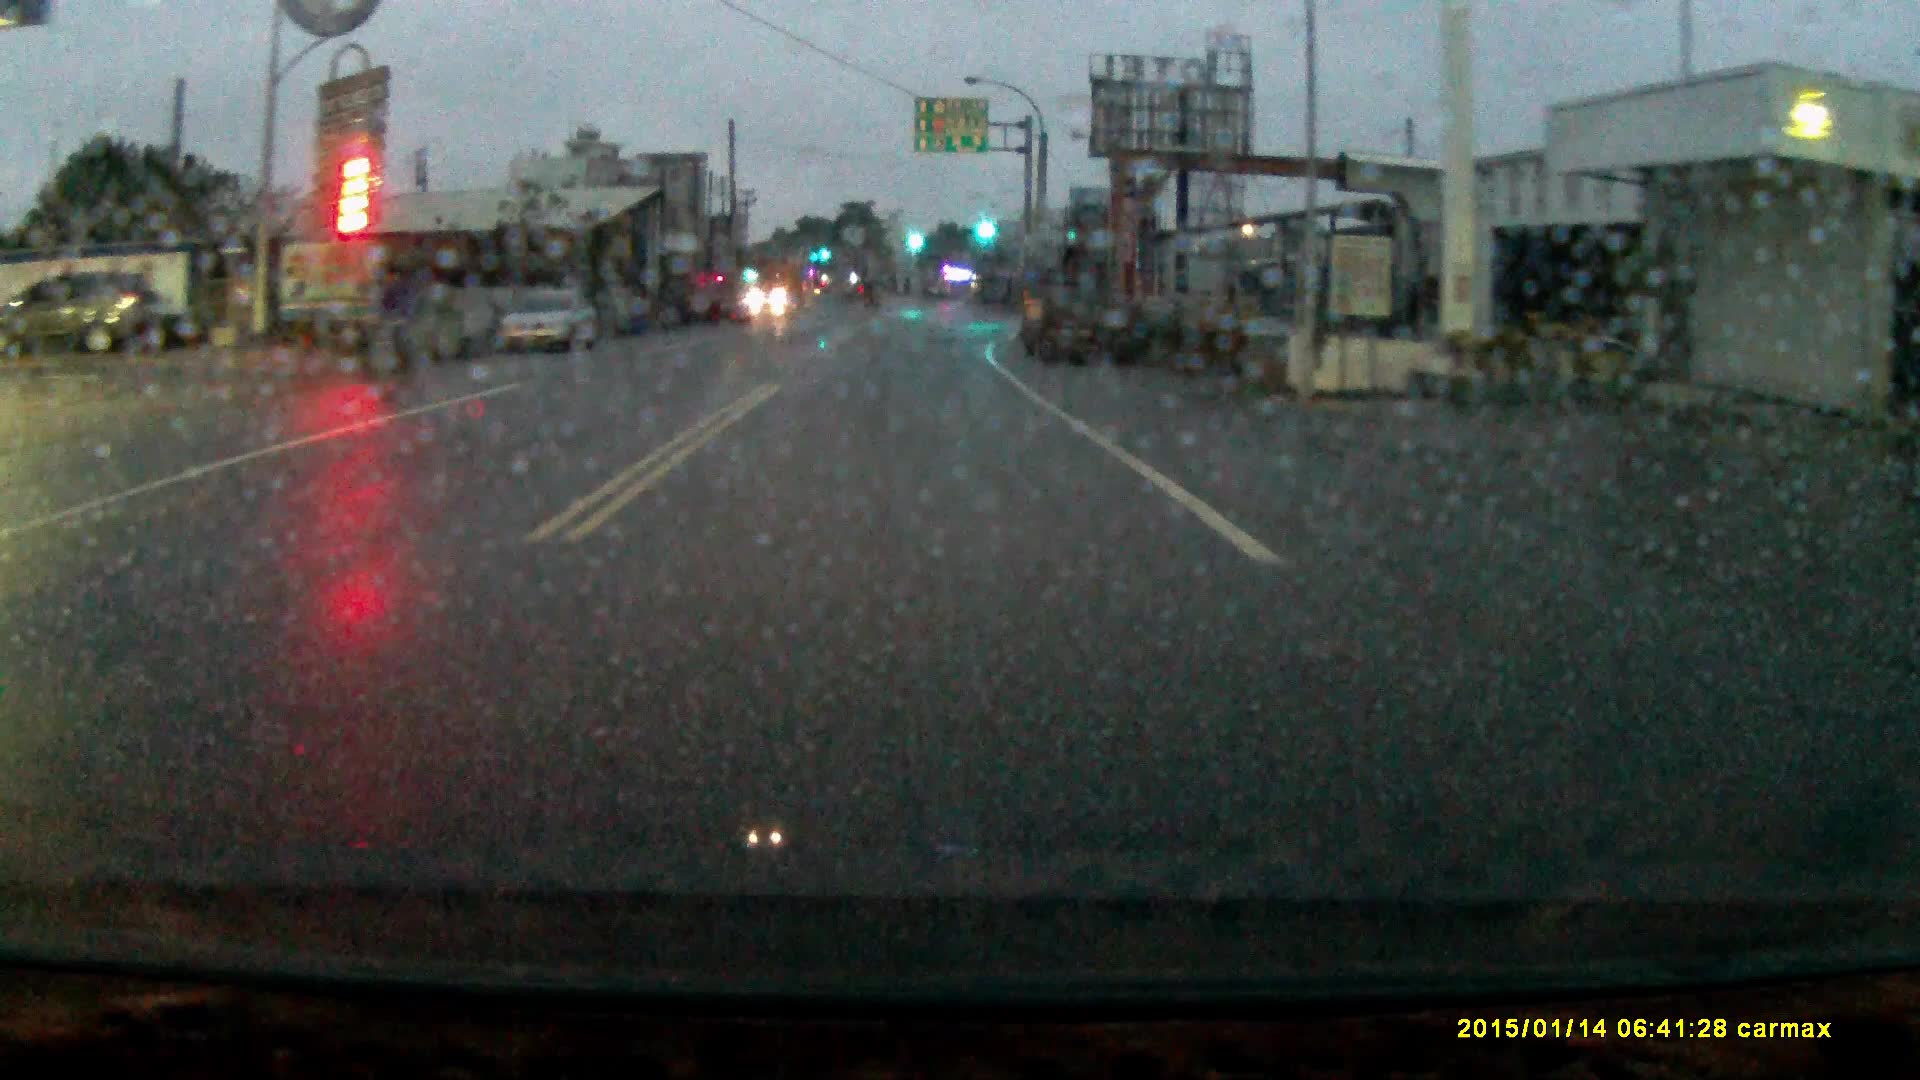rider: (327, 249, 433, 415)
vehicle: (1, 269, 191, 358), (1019, 265, 1110, 373), (495, 294, 613, 359)
